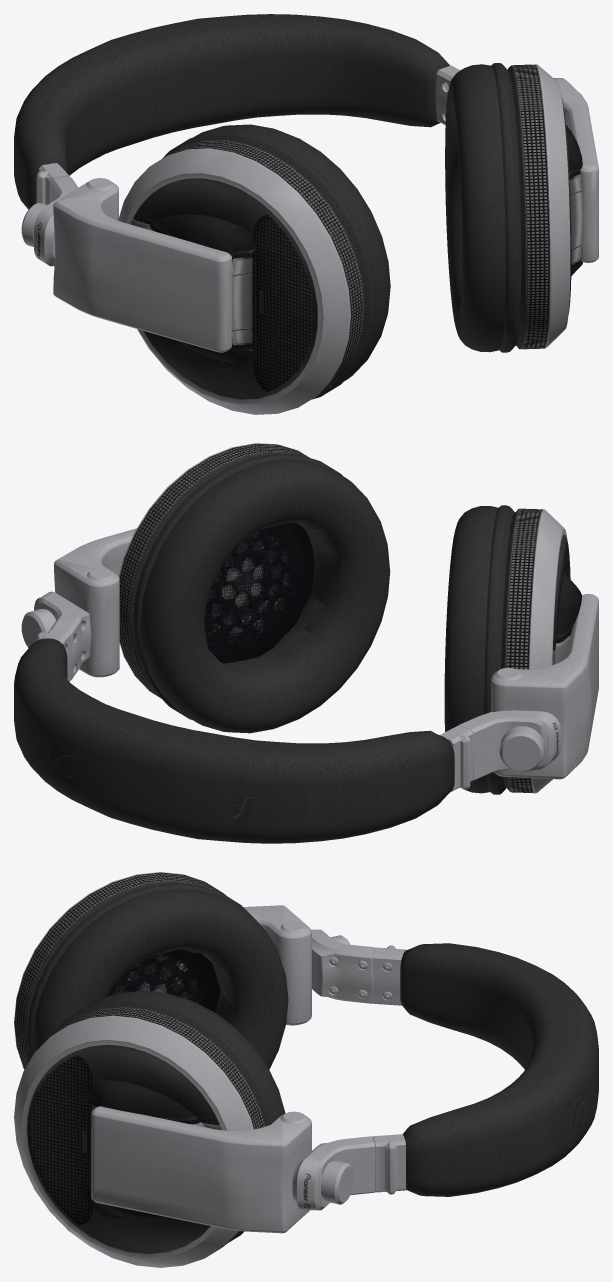
The model's file is pioneer-hdj-x5.glb.
3 views of the same model, one above another, from view 1: azimuth 30°, elevation 25°; view 2: azimuth 150°, elevation 25°; view 3: azimuth 270°, elevation 25° (orthographic). The views are drawn at different scales.
Visible parts, largest first — view 1: Object_7, Object_4, Object_6, Object_9; view 2: Object_7, Object_4, Object_10, Object_9, Object_21, Object_6; view 3: Object_7, Object_4, Object_6, Object_9, Object_10, Object_21.
Part boxes in pixels (x1=…): Object_7: x1=14, y1=14, x2=526, y2=399; Object_4: x1=21, y1=64, x2=598, y2=414; Object_6: x1=130, y1=95, x2=583, y2=399; Object_9: x1=162, y1=64, x2=550, y2=395; Object_7: x1=14, y1=452, x2=518, y2=843; Object_4: x1=21, y1=443, x2=598, y2=793; Object_10: x1=204, y1=522, x2=314, y2=663; Object_9: x1=119, y1=443, x2=542, y2=793; Object_21: x1=29, y1=710, x2=318, y2=833; Object_6: x1=552, y1=534, x2=581, y2=664; Object_7: x1=24, y1=881, x2=598, y2=1243; Object_4: x1=14, y1=872, x2=405, y2=1267; Object_6: x1=26, y1=1044, x2=222, y2=1253; Object_9: x1=14, y1=872, x2=265, y2=1244; Object_10: x1=107, y1=949, x2=220, y2=1012; Object_21: x1=547, y1=1034, x2=598, y2=1161.
Size of the model in its own units: 0.2901 by 0.1393 by 0.2936.
Materials: 7 (7 with a texture image).
